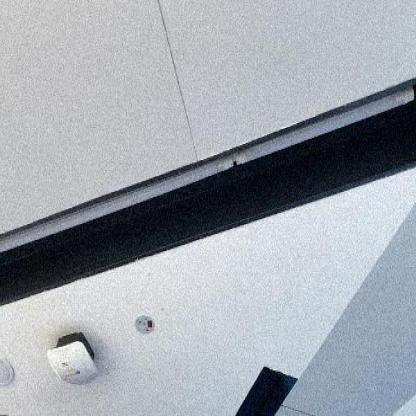light_off: (0, 49, 414, 290)
